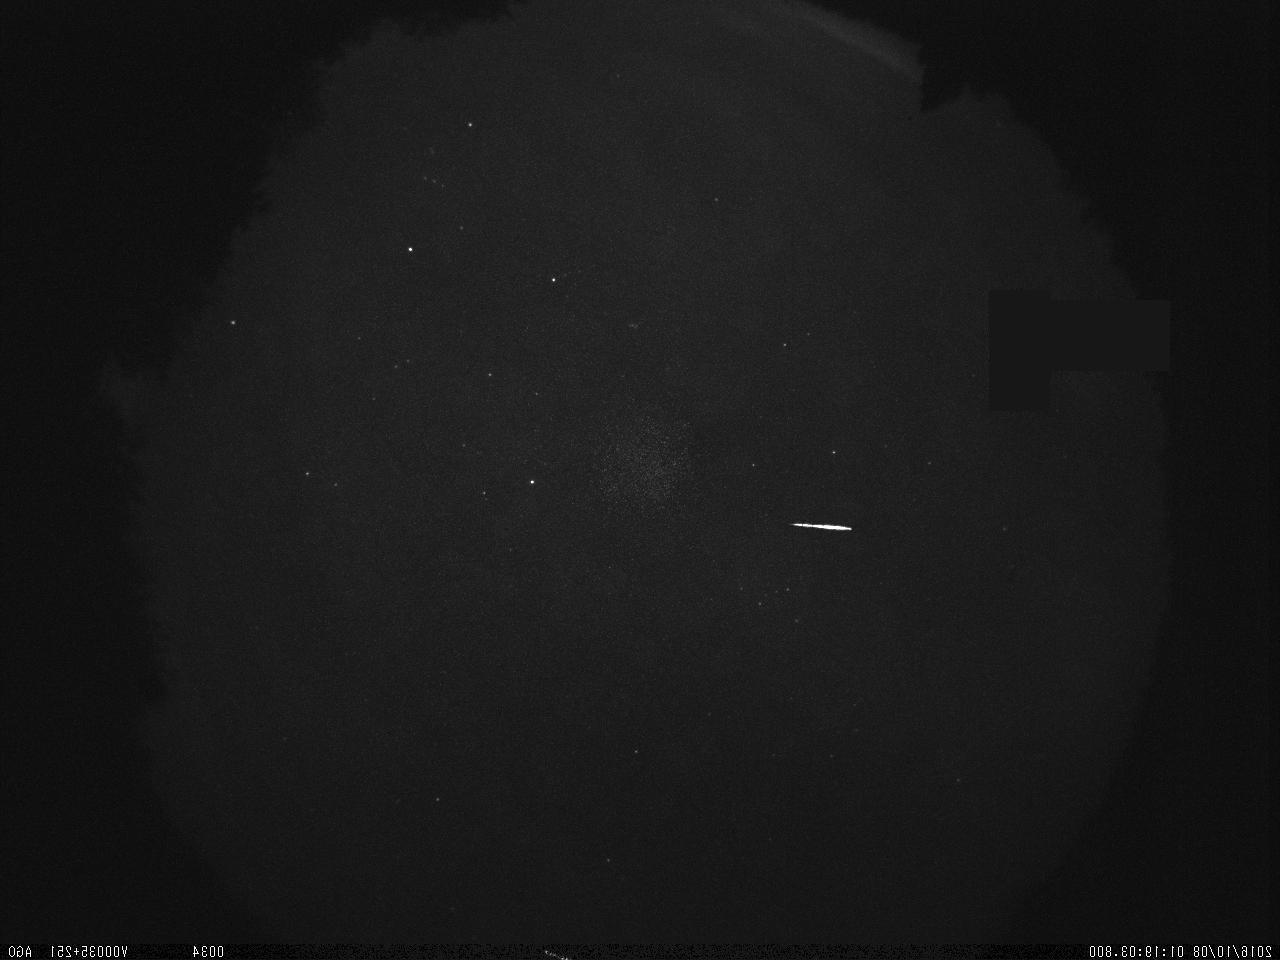meteor: (768, 507, 877, 544)
